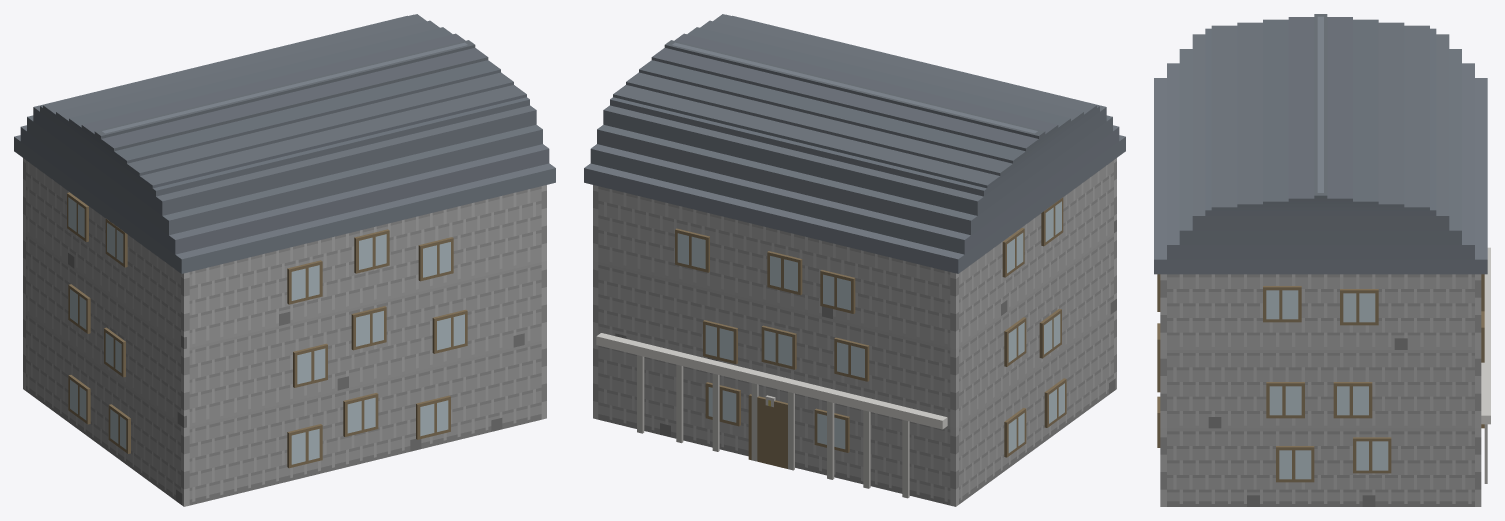
File: academia_magia_03.glb
3 renders of one model, left to right at view 1: azimuth 30°, elevation 25°; view 2: azimuth 150°, elevation 25°; view 3: azimuth 270°, elevation 25°, orthographic.
Parts seen in each view (by area): view 1: academia_magia_03; view 2: academia_magia_03; view 3: academia_magia_03.
Boxes of the visible parts, box(x1,y1,x2,y2) form: academia_magia_03: box(14, 14, 555, 506); academia_magia_03: box(584, 14, 1125, 506); academia_magia_03: box(1154, 14, 1490, 506).
Size of the model in its own units: 13.4 by 10.8 by 10.5.
